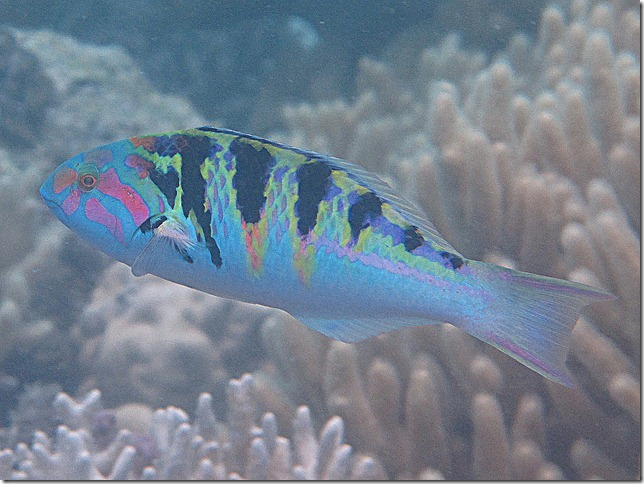fish: (39, 126, 619, 389)
